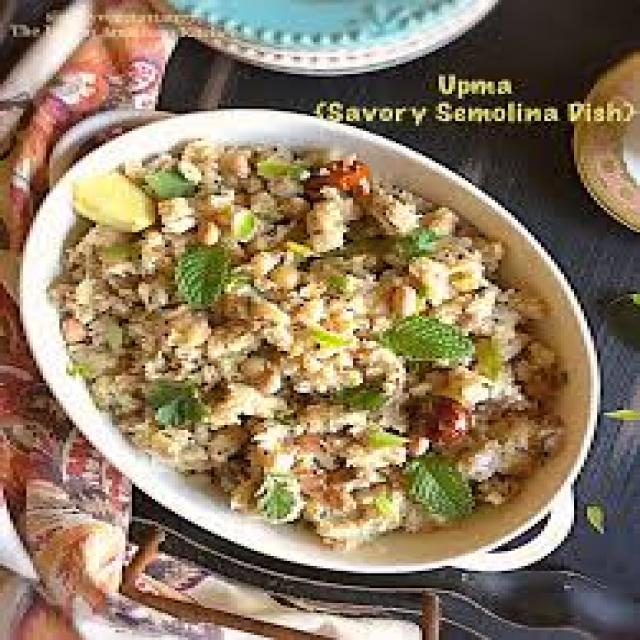UPMA: (49, 138, 574, 549)
